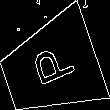P_W: (24, 41, 77, 94)
